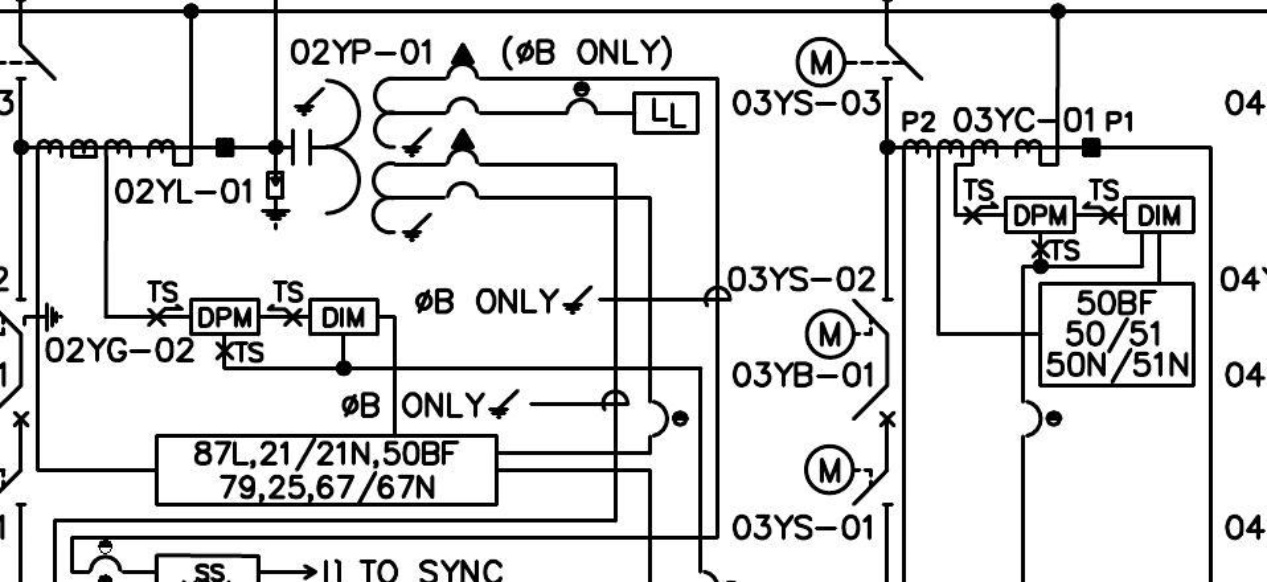115_1way_ds_w_motor: (794, 35, 925, 89), (802, 443, 894, 507), (803, 297, 894, 361)
115_breaker: (850, 384, 897, 427)
115_cvt_1p: (290, 41, 482, 244)
115_la: (260, 170, 292, 231)
DIM: (1122, 195, 1196, 234), (308, 297, 380, 337)
DPM: (1003, 195, 1077, 235), (189, 297, 261, 336)
LL: (632, 91, 700, 135)
